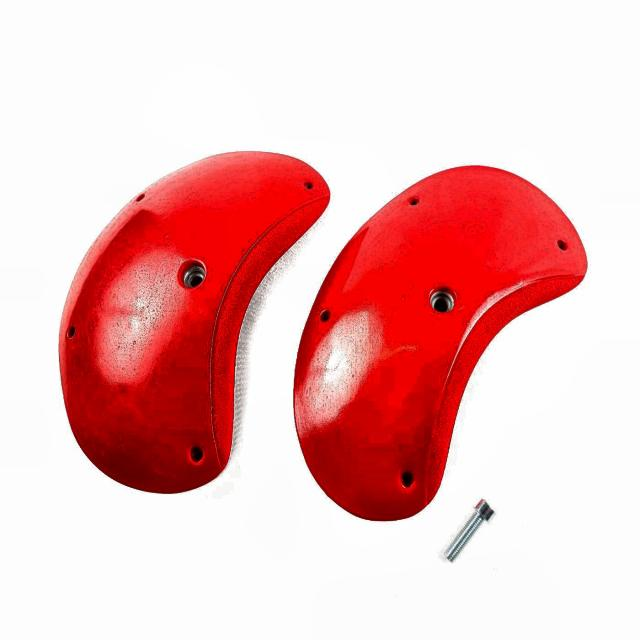Hold: (293, 161, 588, 522), (57, 149, 329, 495)
